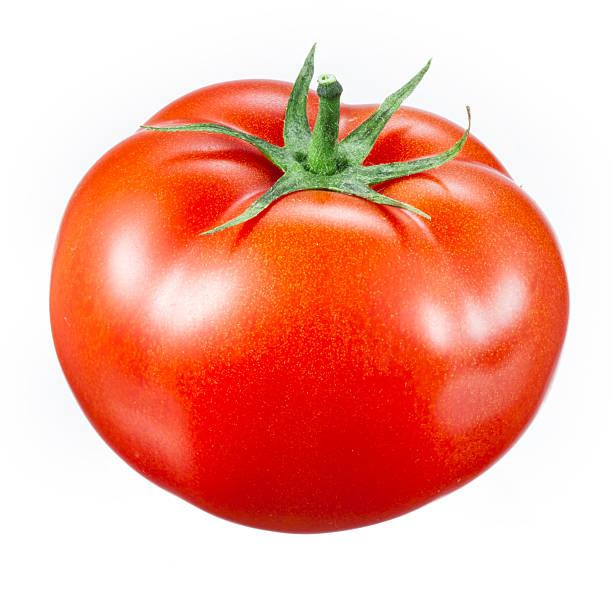Tomato: (47, 66, 571, 540)
